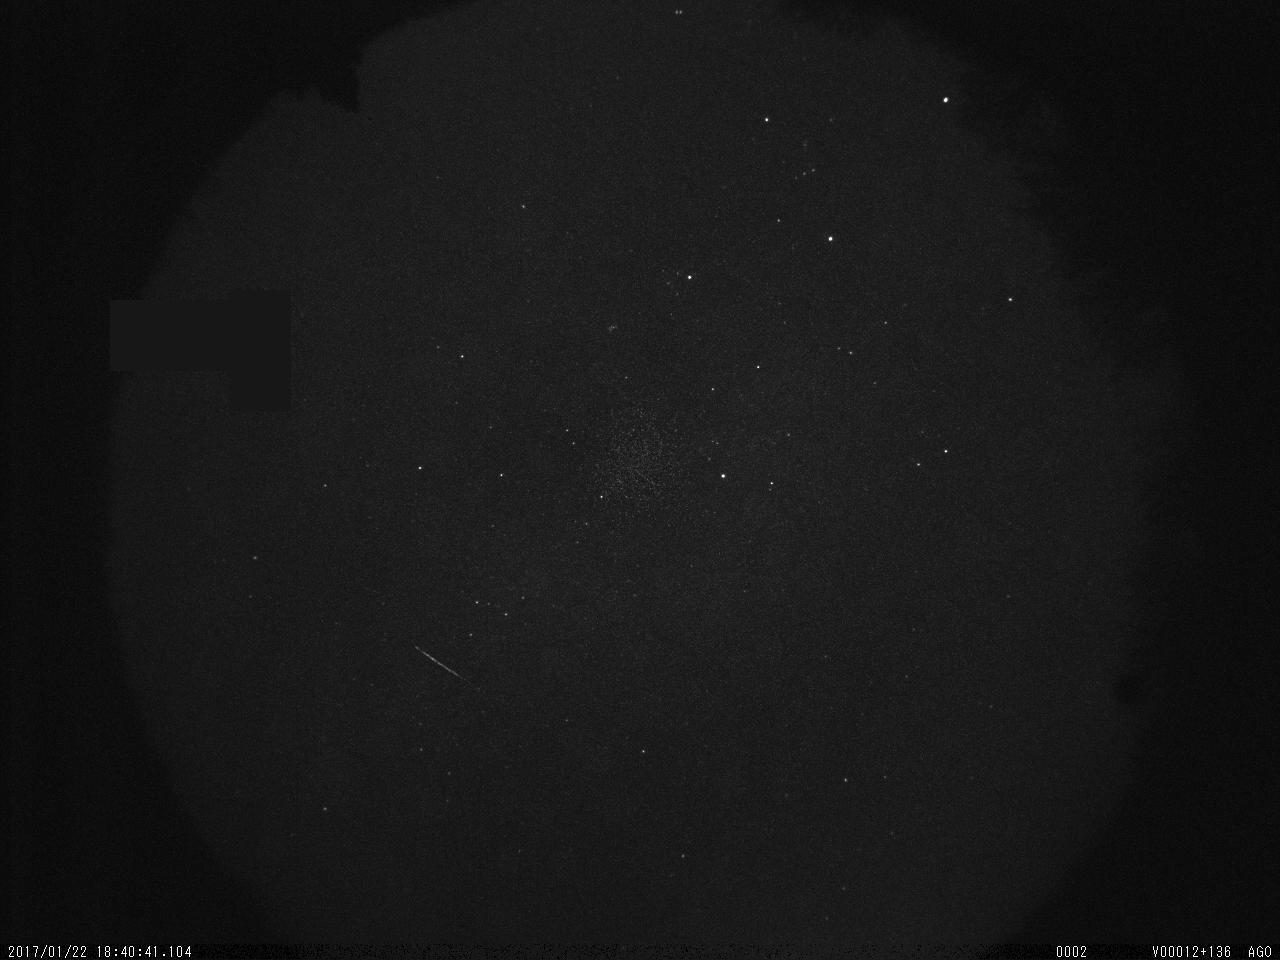meteor: (409, 644, 478, 690)
